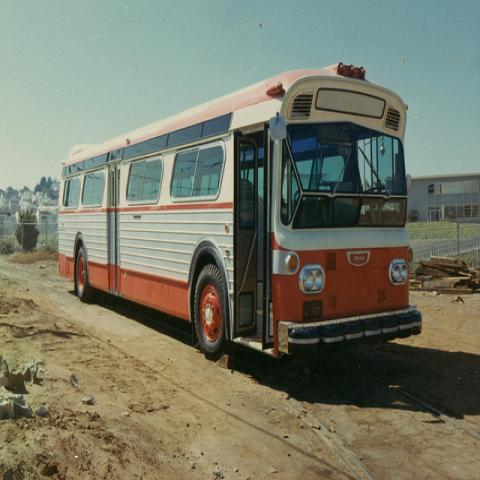bus: (58, 61, 424, 362)
